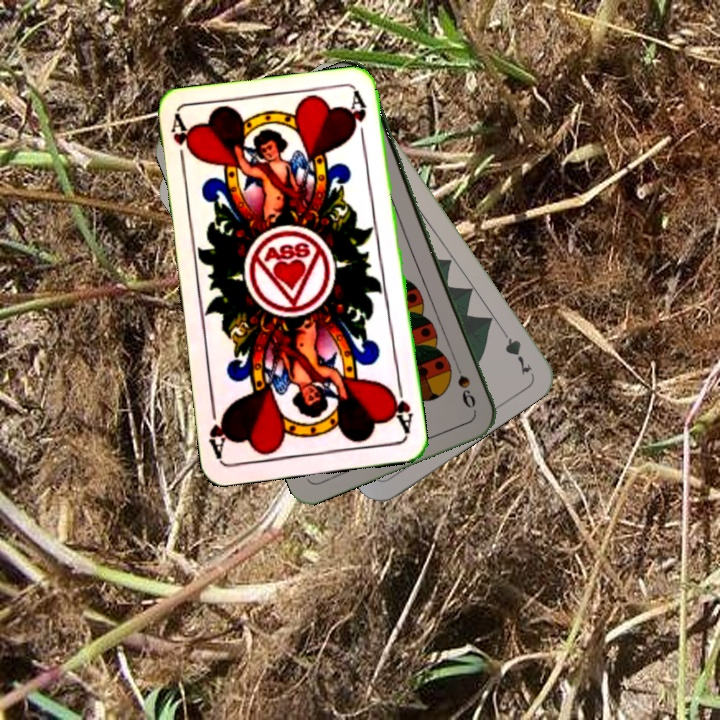G7: (495, 322, 535, 377)
HA: (385, 378, 416, 437), (167, 113, 197, 172)
S9: (449, 355, 478, 411)
